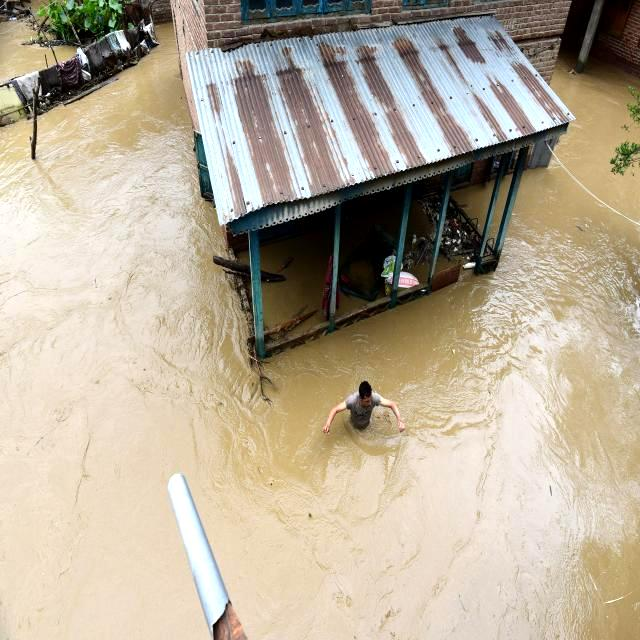civilian: (325, 377, 412, 449)
